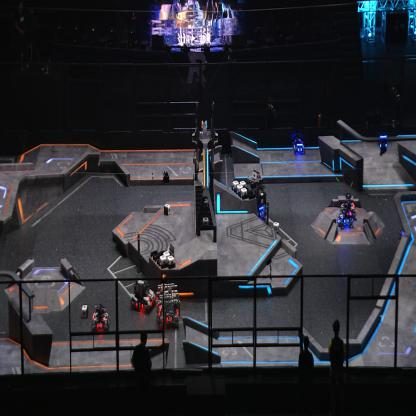car: (155, 283, 180, 330), (130, 268, 156, 312), (243, 176, 266, 224), (92, 302, 111, 332), (336, 200, 355, 228), (339, 190, 356, 218), (292, 132, 305, 154)
